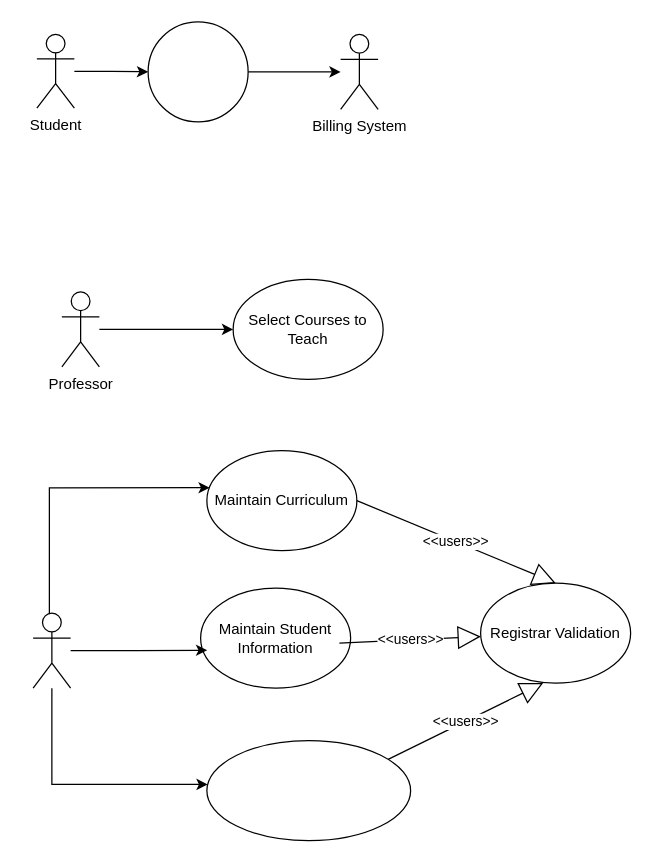
This 653x863 diagram has some shape labels left out. The shapes that lost their labels are listed below. From the top down, each one's centre as x and y in pixels, then its label:
At (197,71): "Register for Courses".
At (51,650): "Registrar".
At (308,790): "Maintain Profes sor Information".
